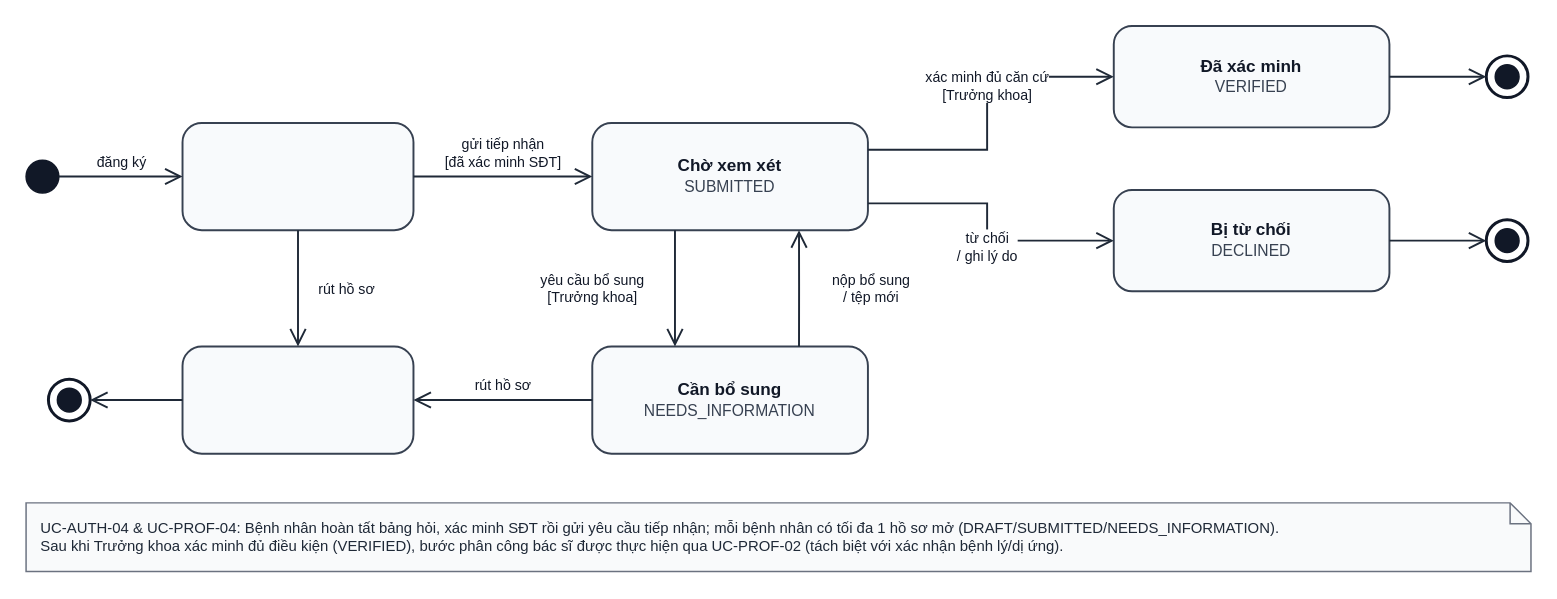
This 1557x599 diagram has some shape labels left out. Here are the shapes that lost their labels. From the top down, the centre of each, then its label:
At (x=297, y=176): "Nháp hồ sơ DRAFT".
At (x=297, y=399): "Đã rút hồ sơ WITHDRAWN".
